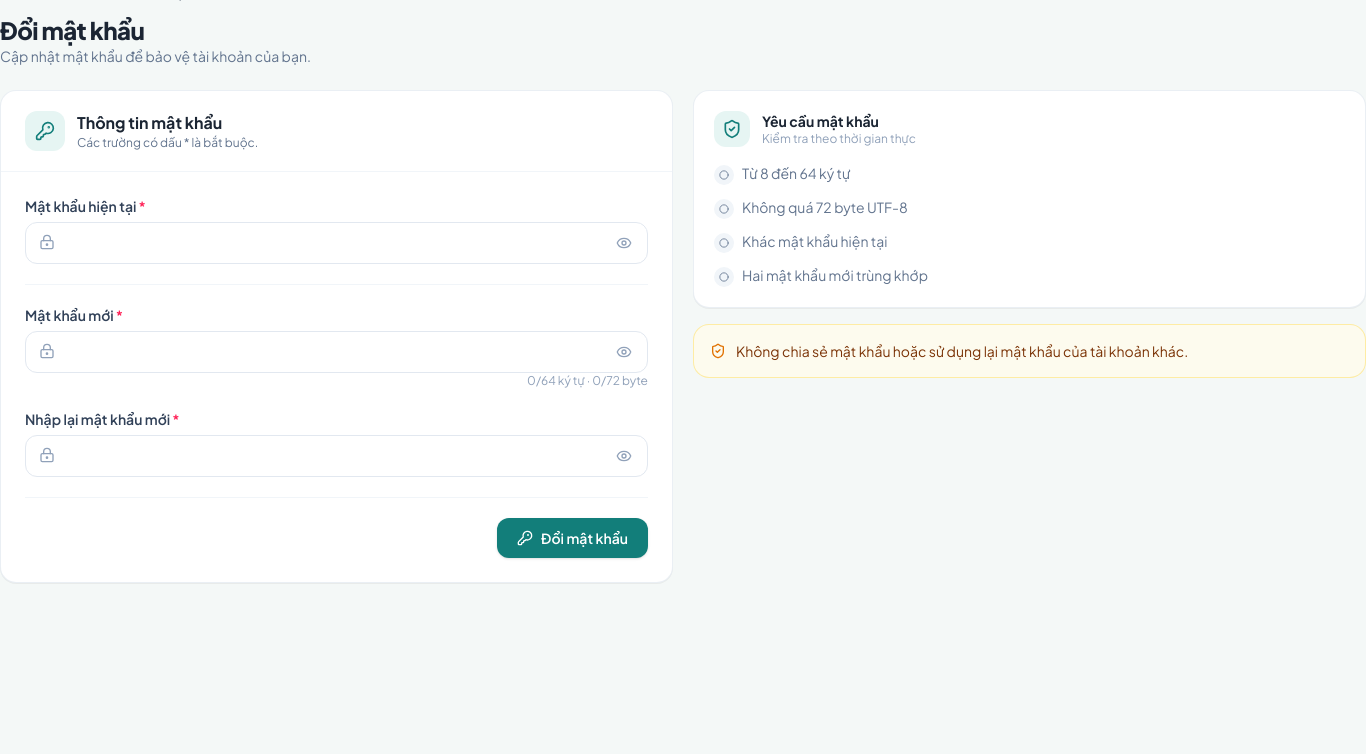
Test: ChangePasswordForm › shows MSG02 for required fields only after submit is clicked
Check: the text "Mật khẩu hiện tại là bắt buộc." is not shown
Check: the text "Mật khẩu mới là bắt buộc." is not shown
Click the button "Đổi mật khẩu" at (573, 538), box x1=497 y1=518 x2=648 y2=558
(page scrolled)
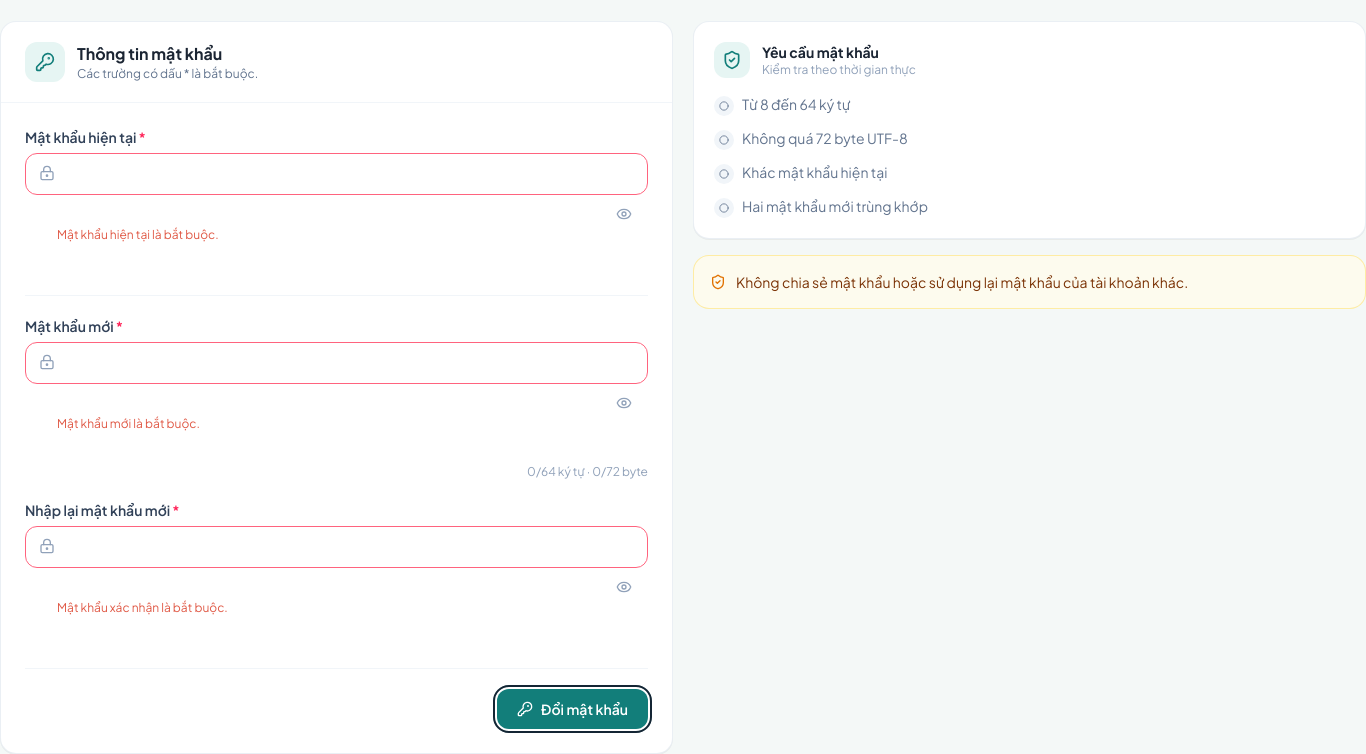
Check: the text "Mật khẩu hiện tại là bắt buộc." is shown, box x1=57 y1=227 x2=219 y2=242
Check: the text "Mật khẩu mới là bắt buộc." is shown, box x1=57 y1=416 x2=200 y2=431
Check: the text "Mật khẩu xác nhận là bắt buộc." is shown, box x1=57 y1=600 x2=228 y2=615
